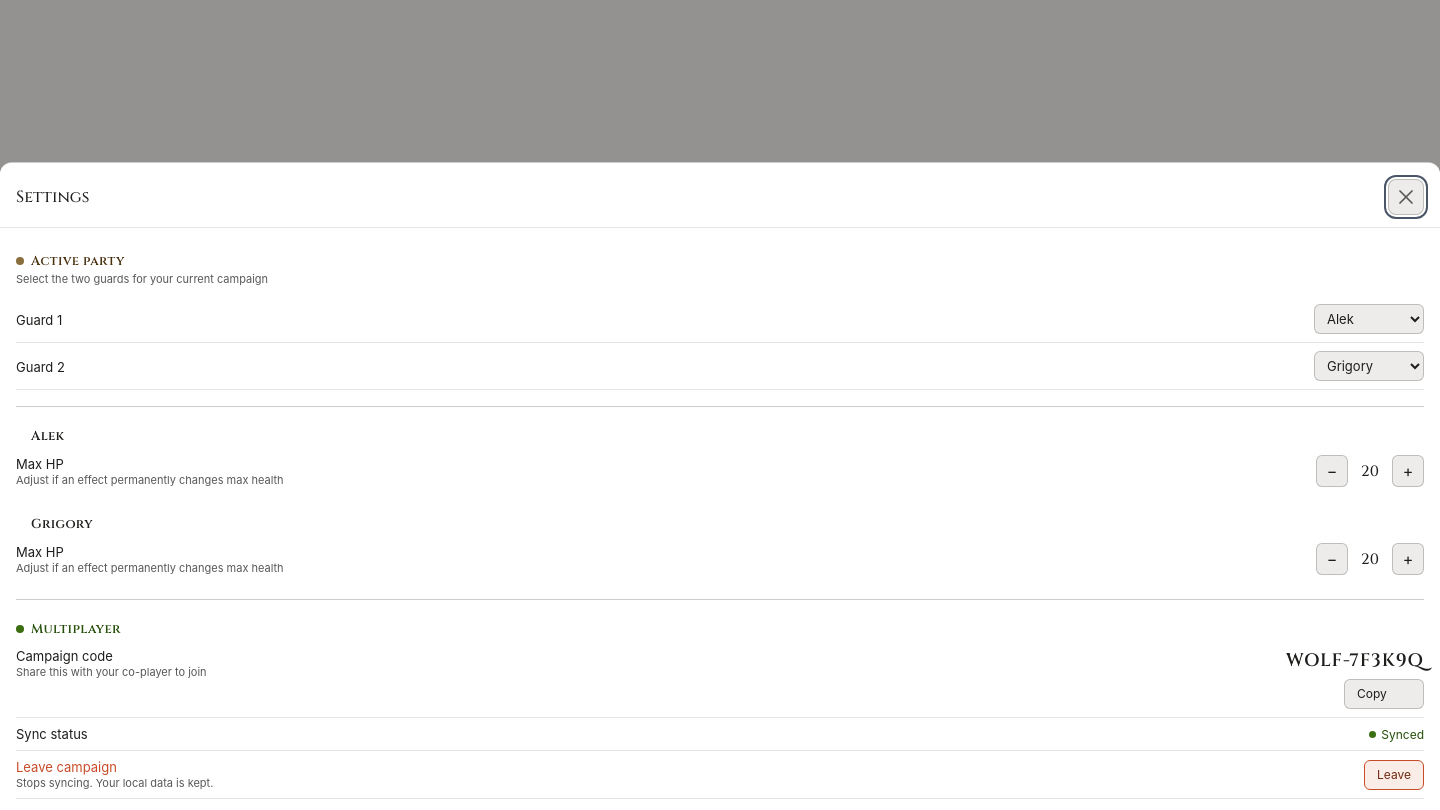
SettingsPanel — copy campaign code reports failure (AVE-789) › reports failure and offers the manual path when the Clipboard API is absent
Click the button "Copy". click: (1384, 694)
box: [1344, 679, 1424, 709]
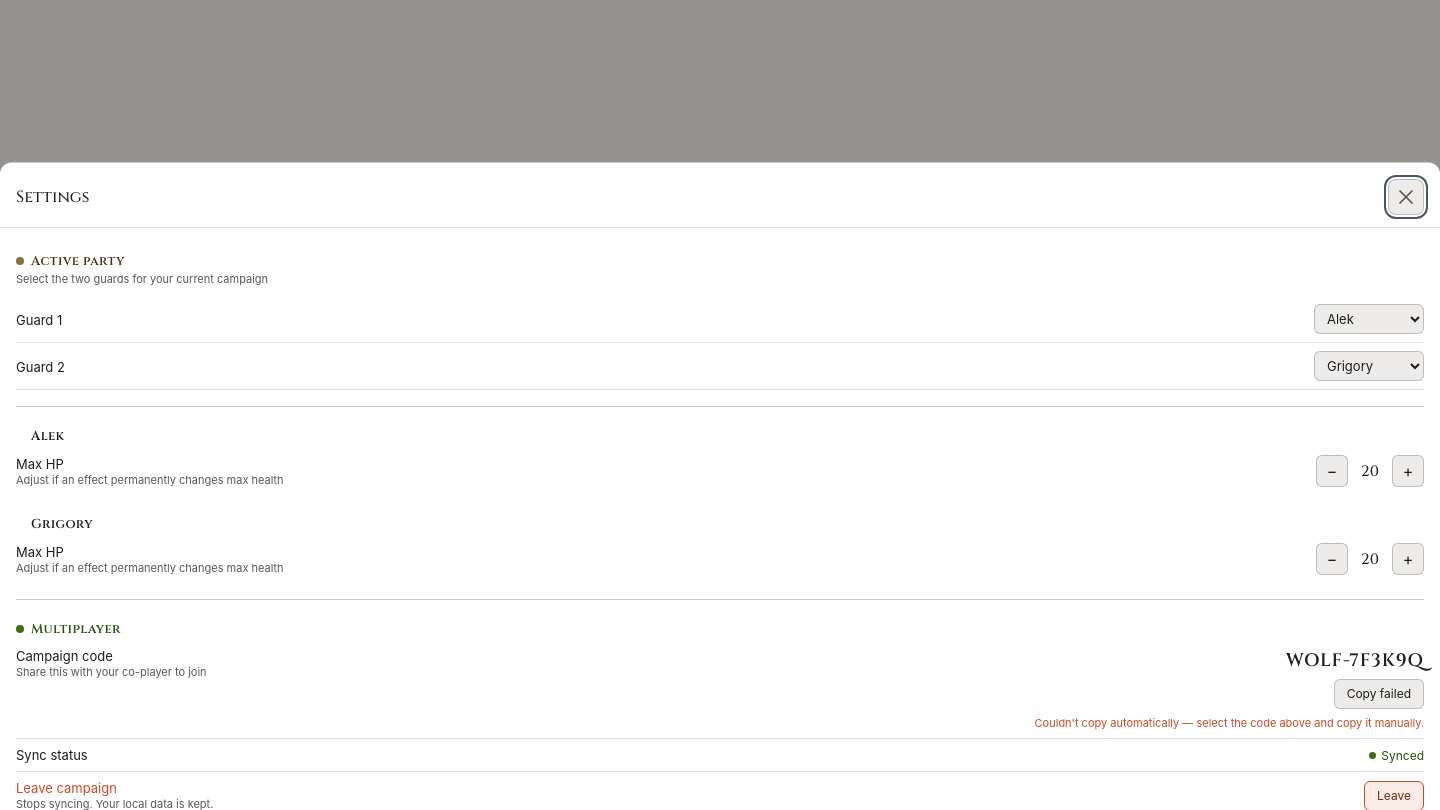
Expected: the button "Copy failed" is shown, [1334, 679, 1424, 709]
Expected: the text "Couldn't copy automatically — select the code above and copy it manually." is shown, [1035, 716, 1424, 730]
